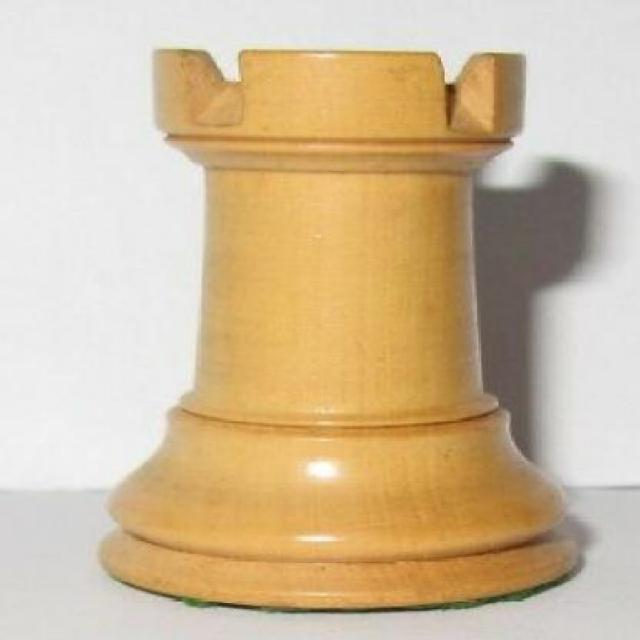white-rook: (100, 50, 581, 614)
